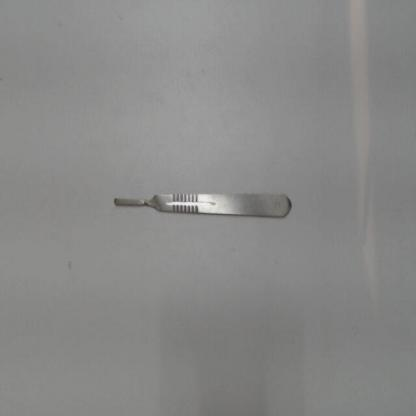No.4 BP Handle: (108, 184, 294, 233)
